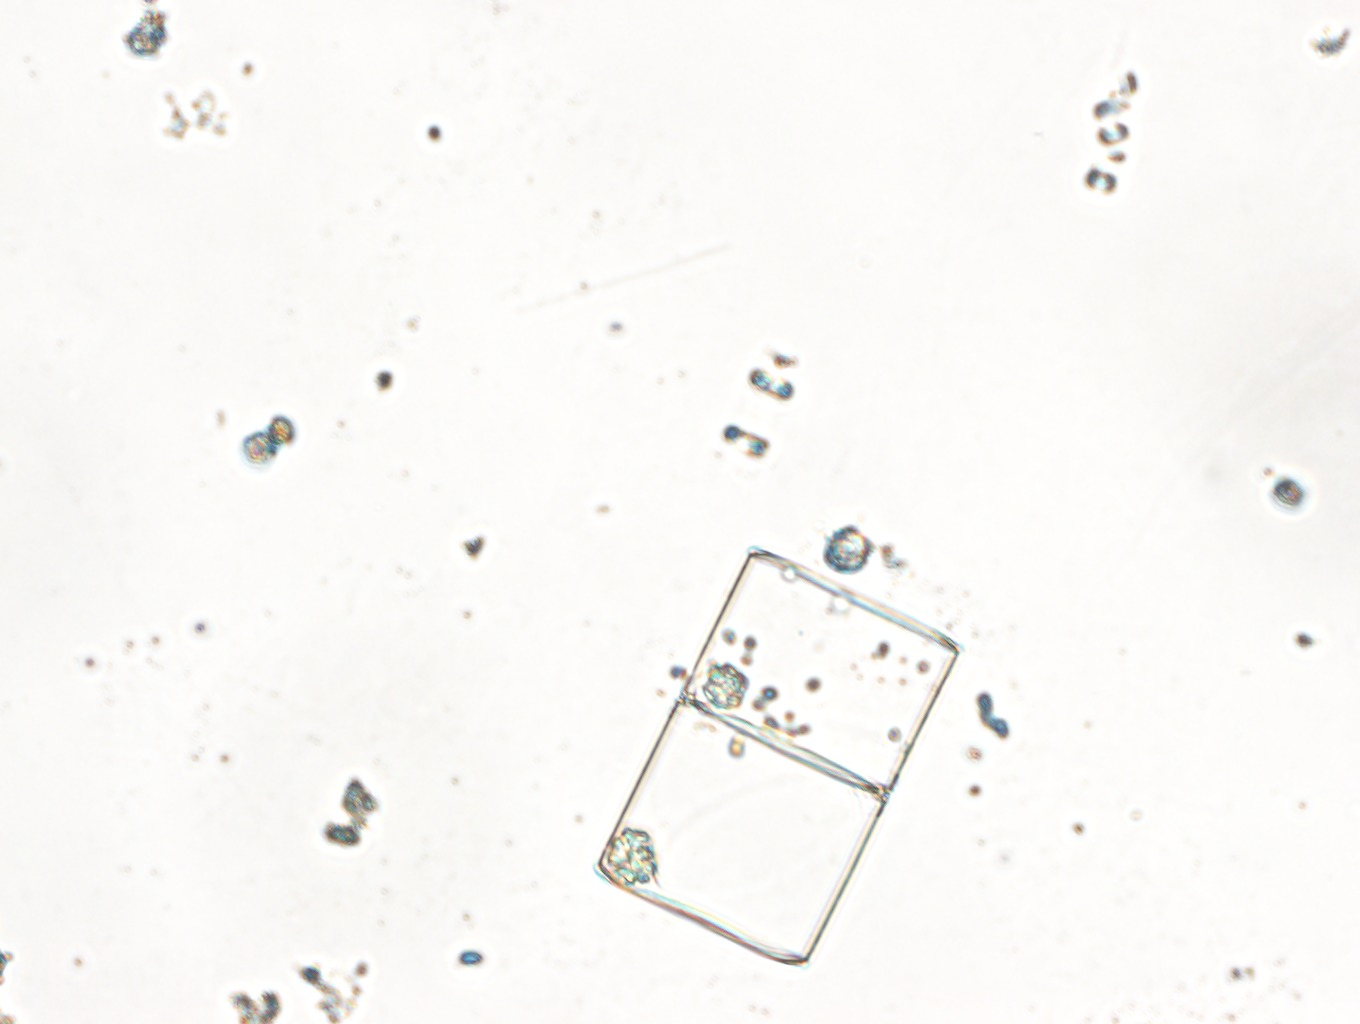guinardia flaccida: (591, 547, 961, 975)
